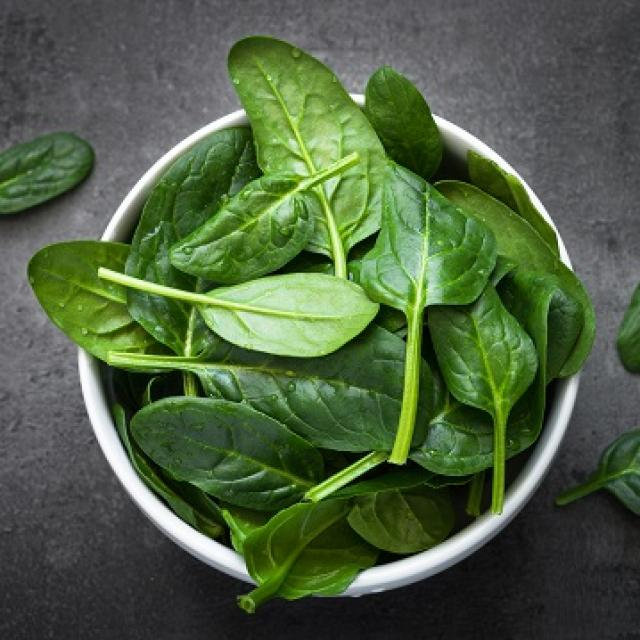spinach: (133, 394, 301, 511), (230, 36, 364, 164), (378, 182, 494, 311), (213, 274, 372, 356), (431, 304, 533, 410), (26, 238, 114, 338), (0, 126, 100, 213), (218, 172, 316, 260), (303, 353, 393, 446)
